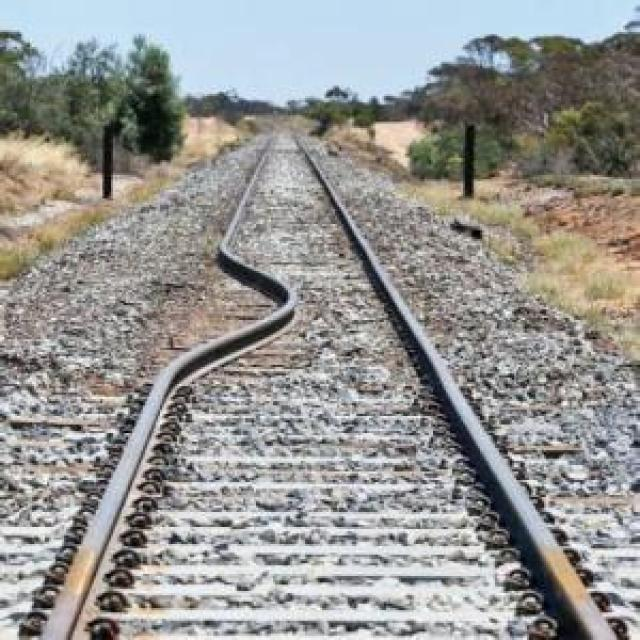rail: (290, 126, 640, 640), (12, 126, 309, 640)
